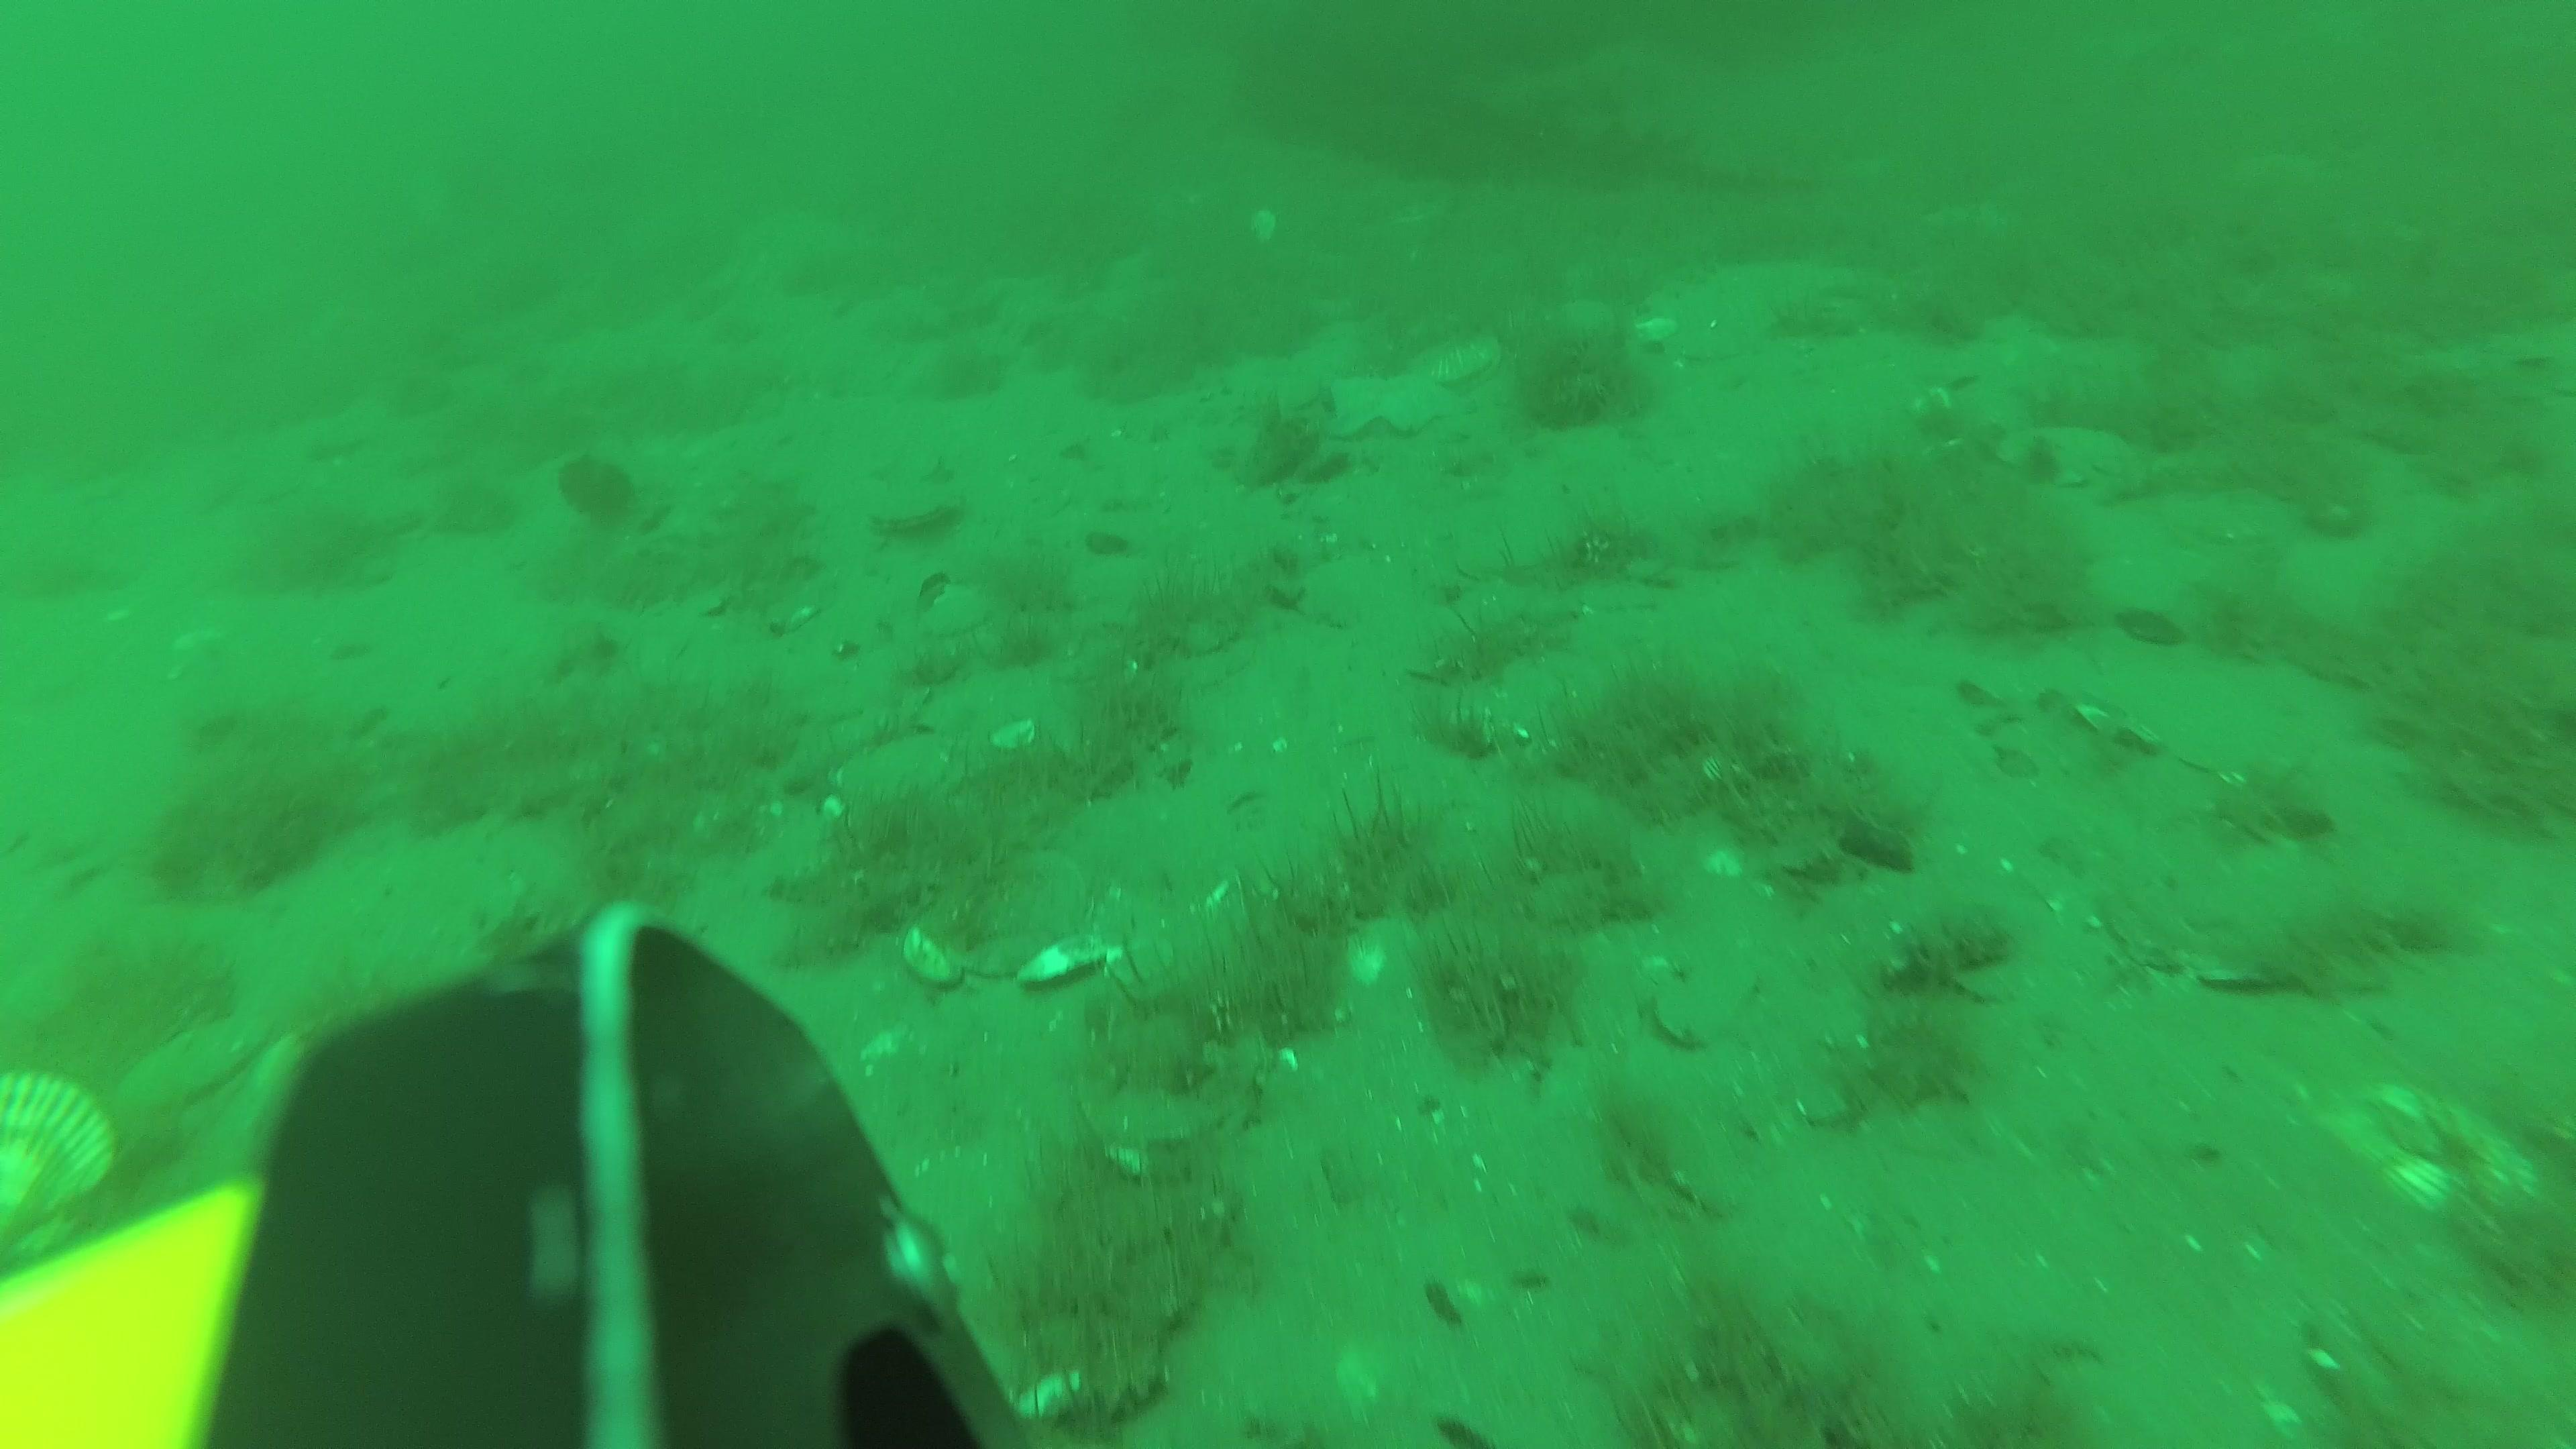scallop: (893, 840, 1095, 987), (7, 1076, 119, 1254), (830, 725, 978, 821), (1997, 423, 2125, 487), (862, 462, 964, 534), (1435, 336, 1500, 386), (1242, 205, 1277, 249)
starfish: (1316, 368, 1476, 439)
